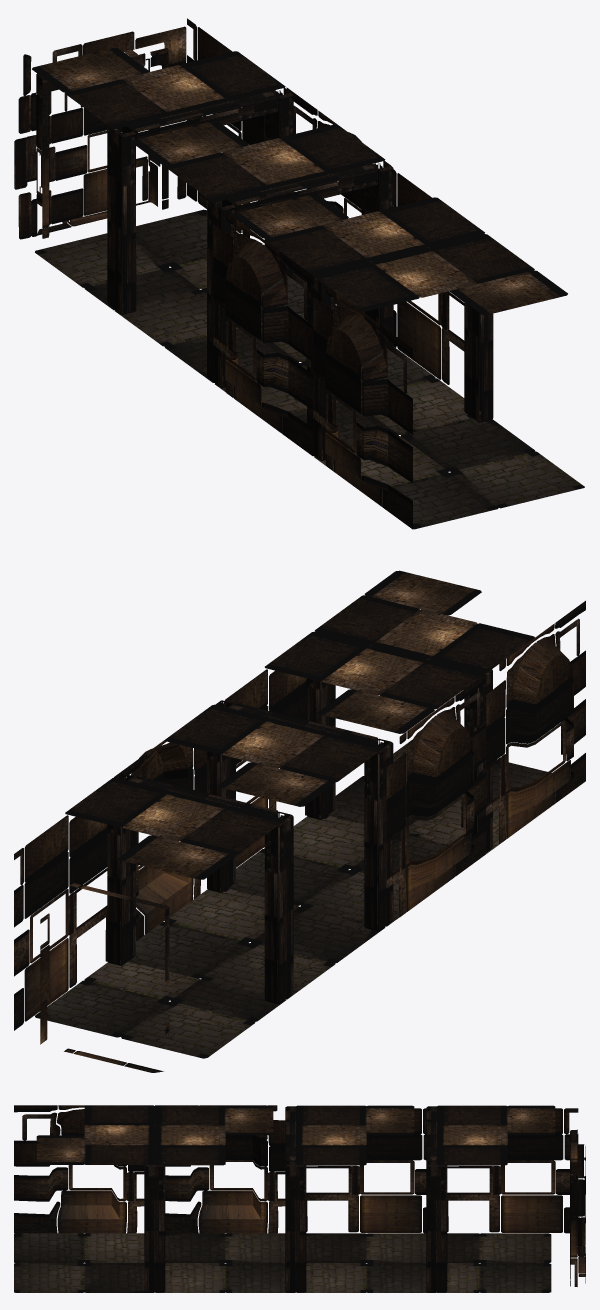
The model's file is castle-bake03.fbx.
3 renders of one model, top to bottom at view 1: azimuth 30°, elevation 25°; view 2: azimuth 150°, elevation 25°; view 3: azimuth 270°, elevation 25°, orthographic. The views are drawn at different scales.
Visible parts, largest first — view 1: parede-baked 03, teto-baked 03, chão-baked 03, vigas-baked 03; view 2: parede-baked 03, teto-baked 03, chão-baked 03, vigas-baked 03; view 3: parede-baked 03, chão-baked 03, teto-baked 03, vigas-baked 03.
Part boxes in pixels (box(x1,y1,x2,y2)): parede-baked 03: box(14, 18, 464, 529); teto-baked 03: box(32, 48, 567, 315); chão-baked 03: box(35, 209, 584, 529); vigas-baked 03: box(107, 88, 493, 460); parede-baked 03: box(14, 600, 585, 1072); teto-baked 03: box(65, 570, 534, 879); chão-baked 03: box(35, 740, 555, 1058); vigas-baked 03: box(107, 644, 492, 1004); parede-baked 03: box(14, 1105, 585, 1286); chão-baked 03: box(14, 1233, 551, 1292); teto-baked 03: box(36, 1105, 555, 1165); vigas-baked 03: box(144, 1106, 447, 1292).
Bounding box in the file's own units: 243 × 204 × 811.
